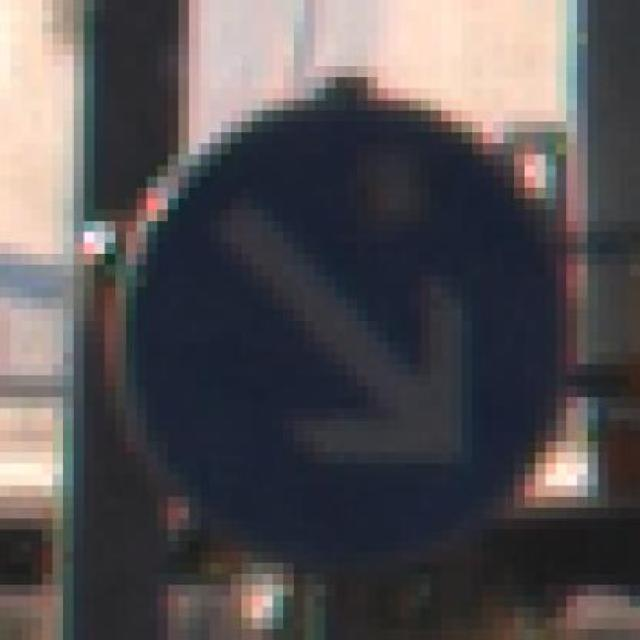Keep-Right: (84, 77, 578, 585)
